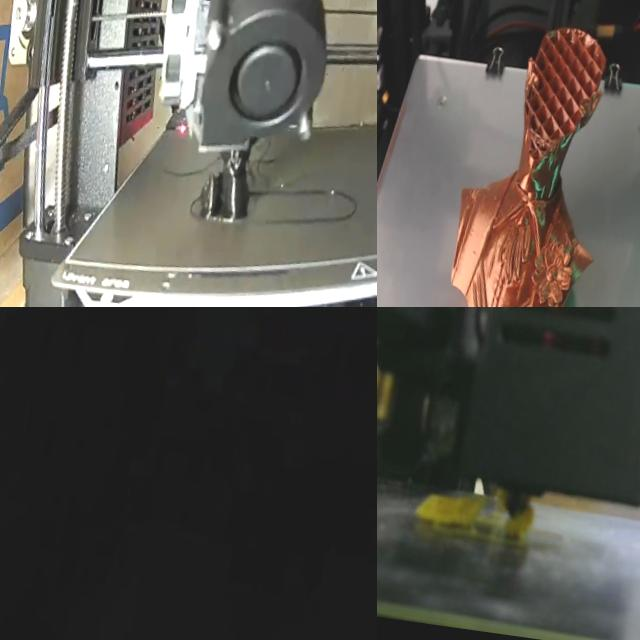spaghetti: (416, 493, 486, 527), (501, 491, 534, 540)
